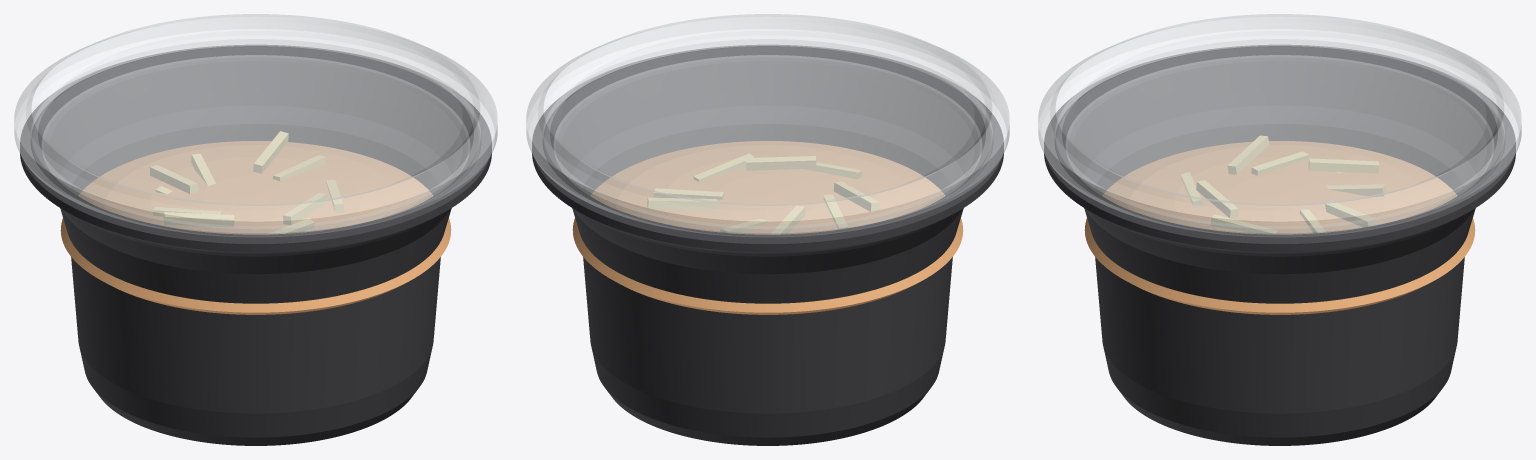
File: container.glb
The picture shows the model from 3 angles, left to right: view 1: azimuth 30°, elevation 25°; view 2: azimuth 150°, elevation 25°; view 3: azimuth 270°, elevation 25°; orthographic projection.
Visible parts, largest first — view 1: Container_Base, Container_Lid, Food_Fill, Lid_Snap_Ring, Garnish_8, Garnish_5, Garnish_11, Garnish_2, Garnish_1; view 2: Container_Base, Container_Lid, Food_Fill, Lid_Snap_Ring, Garnish_11, Garnish_2, Garnish_8, Garnish_1, Garnish_13; view 3: Container_Base, Container_Lid, Food_Fill, Lid_Snap_Ring, Garnish_5, Garnish_2, Garnish_11, Garnish_8, Garnish_13, Garnish_7, Garnish_4.
Boxes of the visible parts, x1,y1,x2,y2 form: Container_Base: (20,45,491,445); Container_Lid: (14,14,497,237); Food_Fill: (60,141,451,314); Lid_Snap_Ring: (31,39,480,235); Garnish_8: (164,212,233,227); Garnish_5: (150,165,197,193); Garnish_11: (283,193,326,224); Garnish_2: (253,131,288,173); Garnish_1: (273,155,325,181); Container_Base: (532,45,1003,445); Container_Lid: (526,14,1009,237); Food_Fill: (572,141,963,314); Lid_Snap_Ring: (543,39,992,235); Garnish_11: (746,156,815,170); Garnish_2: (647,198,717,210); Garnish_8: (834,182,878,211); Garnish_1: (654,188,723,199); Garnish_13: (693,154,754,181); Container_Base: (1044,45,1515,445); Container_Lid: (1038,14,1521,237); Food_Fill: (1084,141,1475,314); Lid_Snap_Ring: (1055,39,1504,235); Garnish_5: (1308,158,1378,173); Garnish_2: (1325,200,1375,227); Garnish_11: (1196,180,1238,217); Garnish_8: (1227,135,1268,174); Garnish_13: (1210,214,1278,234); Garnish_7: (1251,151,1308,175); Garnish_4: (1327,184,1385,196).
Size of the model in its own units: 0.166 by 0.103 by 0.166.
